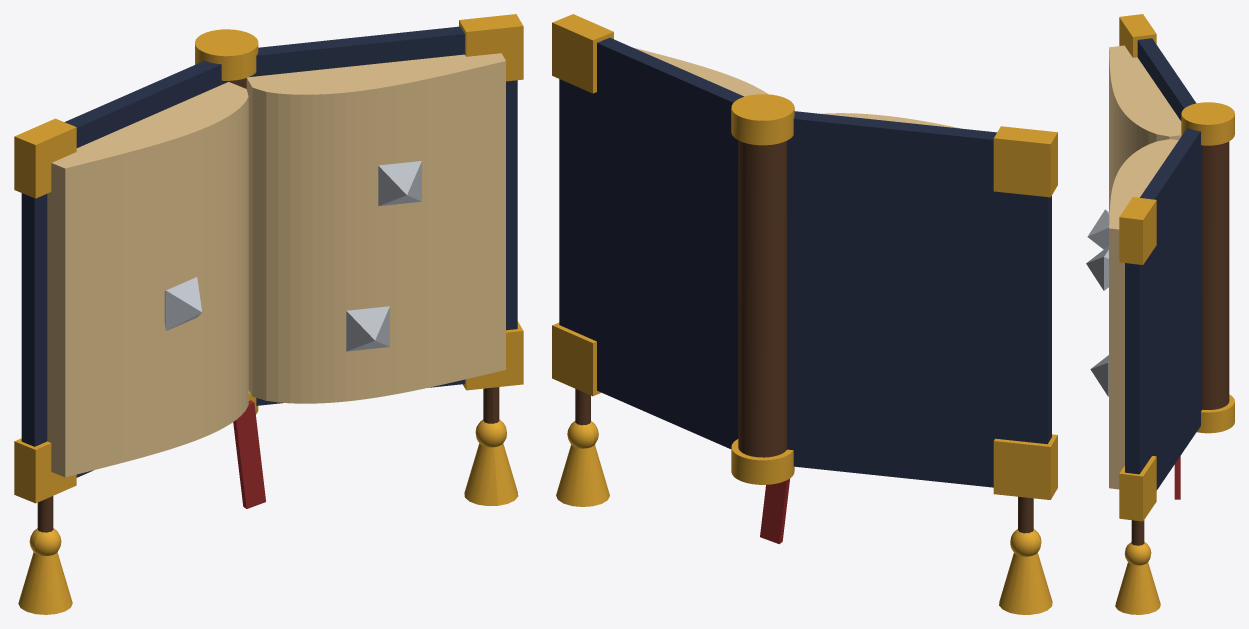
The model's file is Grimoire.glb.
3 renders of one model, left to right at view 1: azimuth 30°, elevation 25°; view 2: azimuth 150°, elevation 25°; view 3: azimuth 270°, elevation 25°, orthographic. The views are drawn at different scales.
Parts seen in each view (by area): view 1: pagesR, pagesL, coverL, coverR, cornerLTop, cornerRTop, cornerLBot, spineCapTop, tasselR, tasselL, ribbon, studR1 (+5 smaller); view 2: coverL, coverR, spine, cornerLTop, cornerLBot, cornerRTop, spineCapTop, cornerRBot, tasselL, tasselR, spineCapBot, ribbon (+3 smaller); view 3: coverR, spine, pagesR, pagesL, cornerRTop, coverL, cornerRBot, spineCapTop, tasselR, cornerLTop, spineCapBot, studR0 (+5 smaller).
Boxes of the visible parts, box(x1,y1,x2,y2) form: pagesR: box(246, 53, 505, 403); pagesL: box(47, 82, 248, 477); coverL: box(21, 60, 227, 477); coverR: box(249, 26, 517, 405); cornerLTop: box(14, 118, 76, 198); cornerRTop: box(459, 14, 523, 81); cornerLBot: box(14, 438, 76, 503); spineCapTop: box(195, 29, 258, 80); tasselR: box(464, 443, 518, 505); tasselL: box(18, 552, 72, 614); ribbon: box(233, 400, 265, 508); studR1: box(346, 306, 389, 351); coverL: box(787, 111, 1051, 487); coverR: box(559, 37, 743, 448); spine: box(738, 140, 786, 457); cornerLTop: box(993, 126, 1057, 197); cornerLBot: box(993, 434, 1057, 499); cornerRTop: box(552, 14, 613, 93); spineCapTop: box(731, 94, 794, 145); cornerRBot: box(552, 322, 601, 396); tasselL: box(999, 552, 1052, 614); tasselR: box(556, 445, 609, 506); spineCapBot: box(731, 439, 794, 484); ribbon: box(760, 478, 790, 544); coverR: box(1125, 127, 1202, 490); spine: box(1202, 141, 1229, 409); pagesR: box(1109, 139, 1178, 489); pagesL: box(1109, 45, 1181, 212); cornerRTop: box(1119, 197, 1156, 264); coverL: box(1137, 38, 1196, 120); cornerRBot: box(1119, 456, 1156, 521); spineCapTop: box(1181, 102, 1234, 145); tasselR: box(1115, 562, 1160, 614); cornerLTop: box(1119, 14, 1156, 57); spineCapBot: box(1197, 394, 1234, 433); studR0: box(1086, 246, 1108, 290).
Bounding box in the file's own units: 2.55 × 2.31 × 0.7793.
